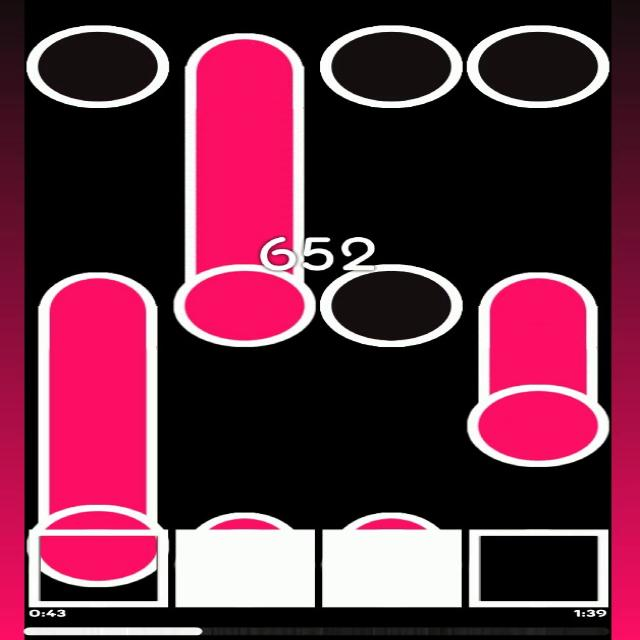end_hold: (473, 264, 603, 321), (36, 266, 160, 316), (186, 21, 303, 72), (195, 499, 293, 530), (341, 501, 441, 530)
note: (26, 24, 169, 109), (321, 25, 462, 109), (322, 263, 462, 347), (469, 26, 610, 106)
start_hold: (173, 237, 314, 347), (26, 486, 168, 588), (466, 377, 608, 468)
